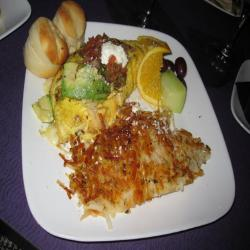bread: (19, 1, 94, 80)
omelette: (42, 31, 148, 143)
